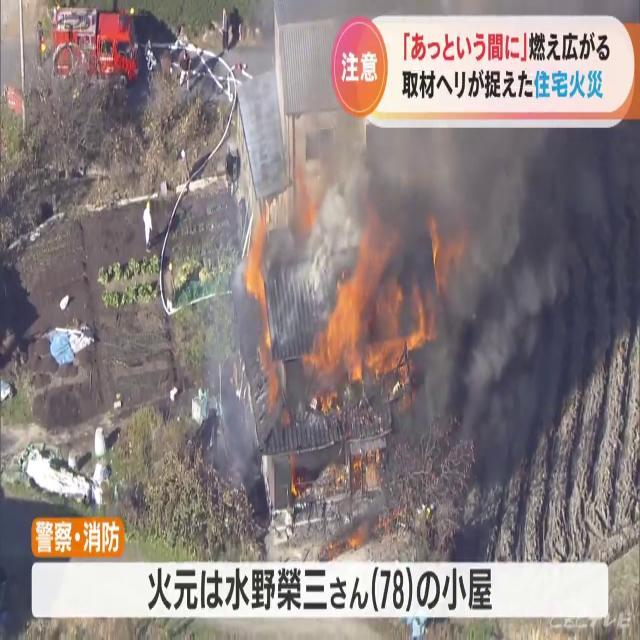Fire: (303, 224, 387, 410)
Smoke: (328, 113, 640, 499)
